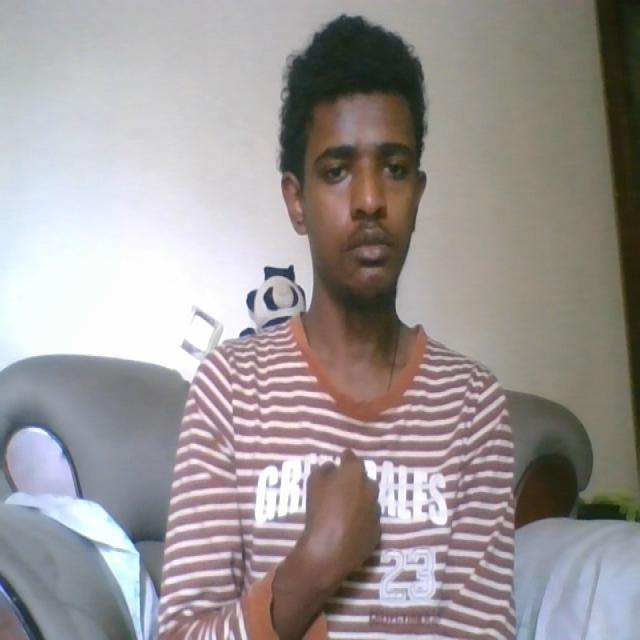ene: (292, 444, 388, 596)
